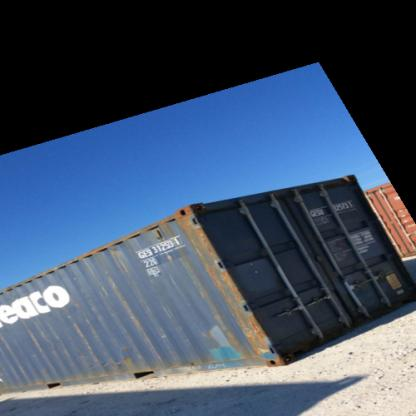Damage: (174, 204, 272, 362), (110, 241, 162, 370), (63, 309, 106, 375), (3, 323, 27, 389)
